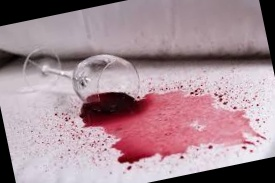wine: (81, 78, 253, 183)
